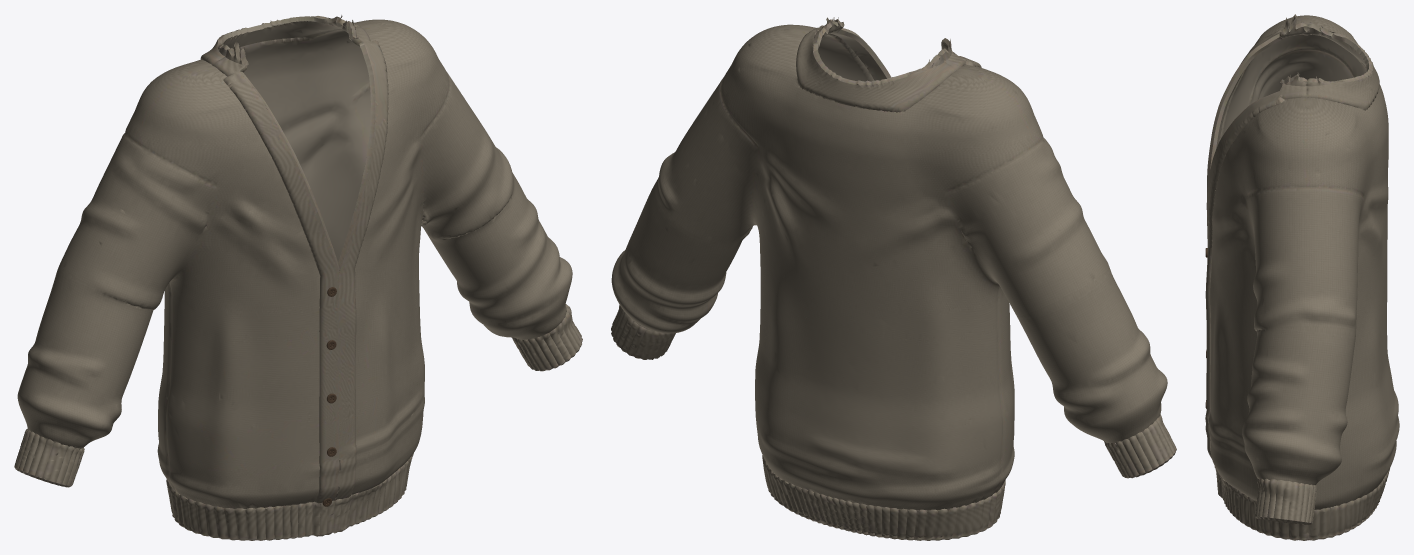
The model's file is 04_cardigan_pbr.glb.
3 views of the same model, side by side, from view 1: azimuth 30°, elevation 25°; view 2: azimuth 150°, elevation 25°; view 3: azimuth 270°, elevation 25° (orthographic). The views are drawn at different scales.
Parts seen in each view (by area): view 1: Camiseta PBR; view 2: Camiseta PBR; view 3: Camiseta PBR.
Boxes of the visible parts, x1,y1,x2,y2 form: Camiseta PBR: [14, 15, 582, 540]; Camiseta PBR: [611, 17, 1176, 540]; Camiseta PBR: [1205, 14, 1399, 540].
Bounding box in the file's own units: 0.9881 × 0.8062 × 0.3135.
2 materials, 1 textured.
